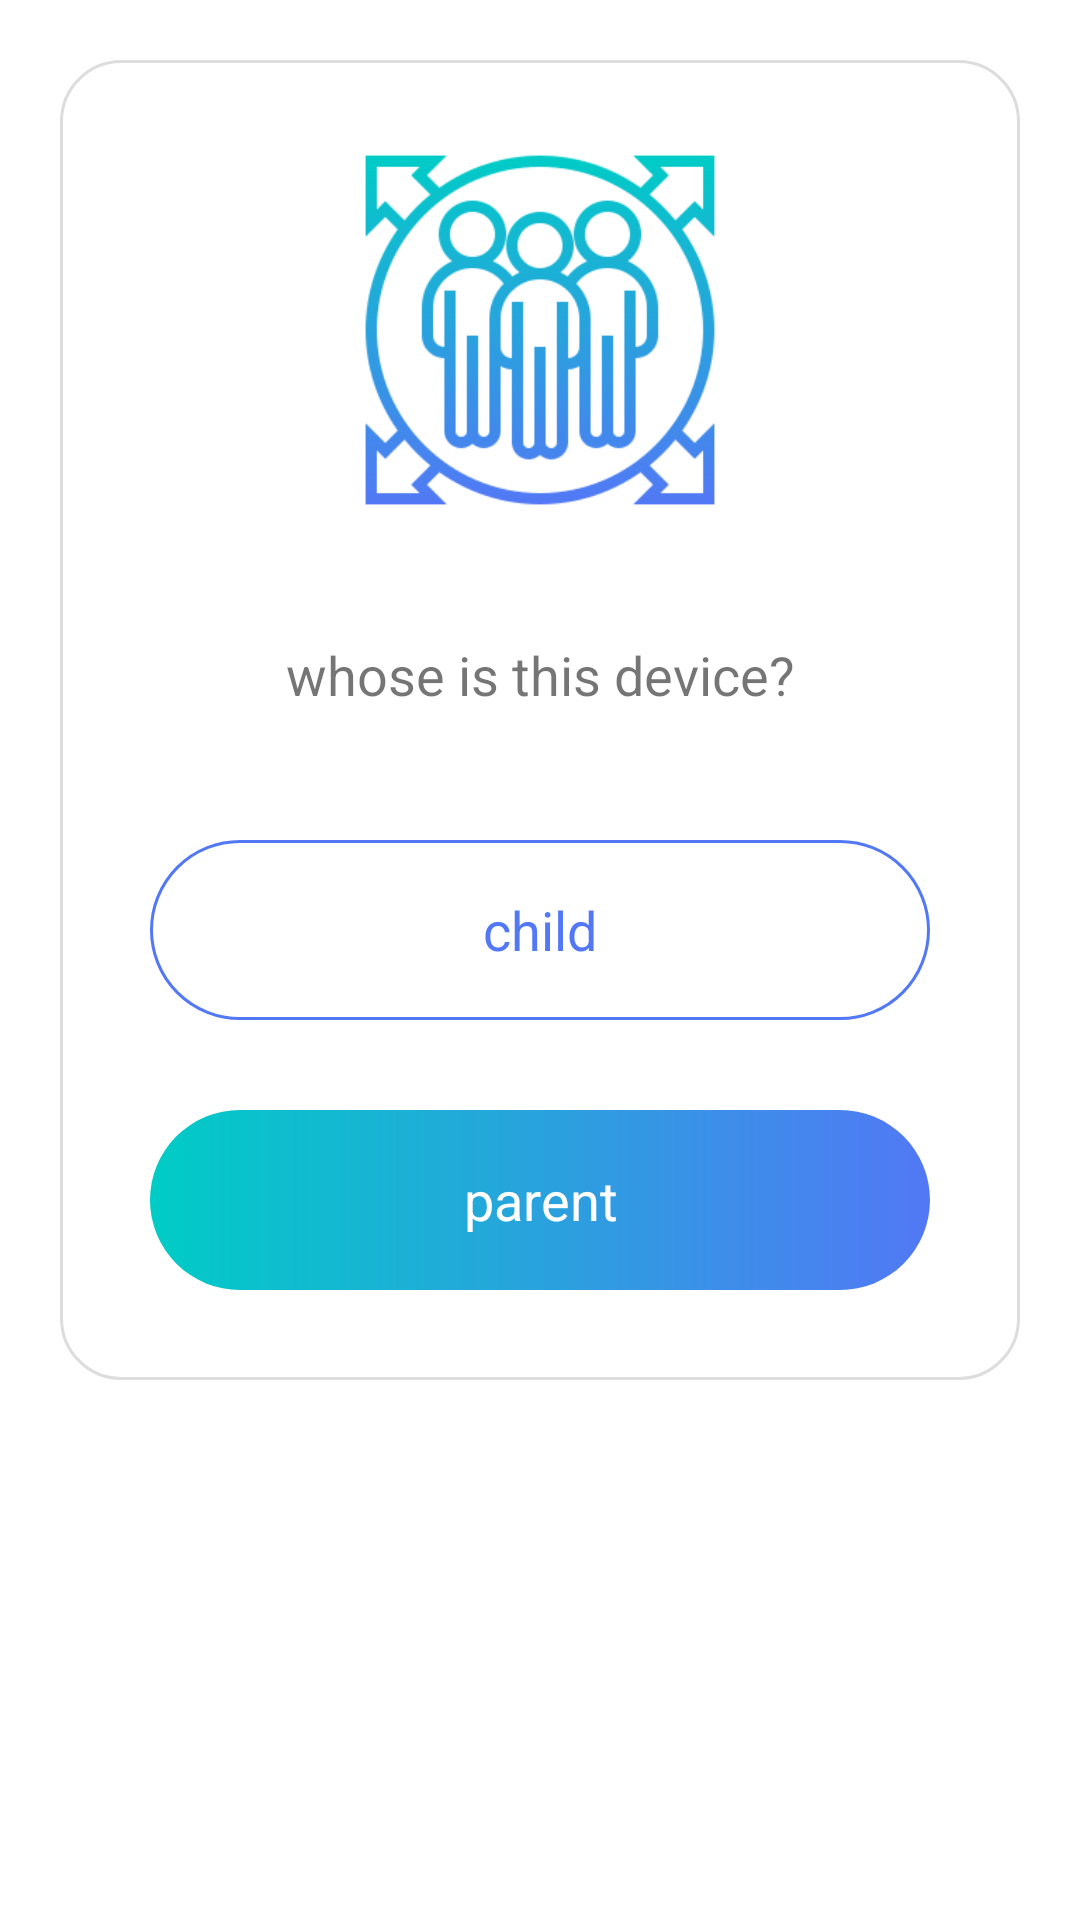

Screen size 1080×1920. Icon name, then its center in pixels as (x=x, y=y):
members: (x=540, y=330)
